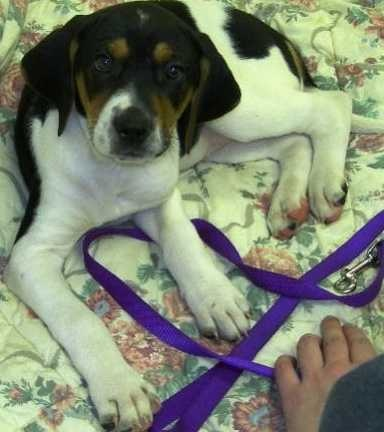dog: (0, 0, 376, 344)
